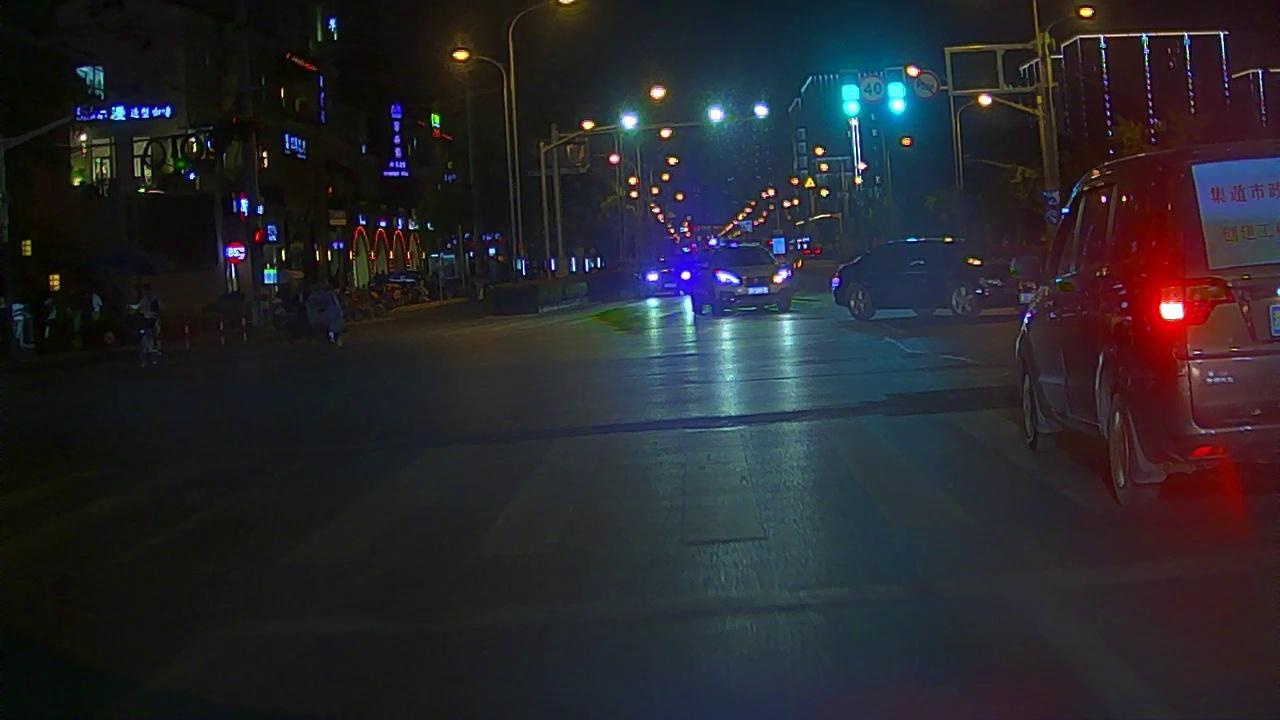traffic_light: (839, 72, 861, 118), (888, 73, 909, 119), (617, 110, 639, 135), (706, 103, 727, 129), (753, 102, 770, 121)
